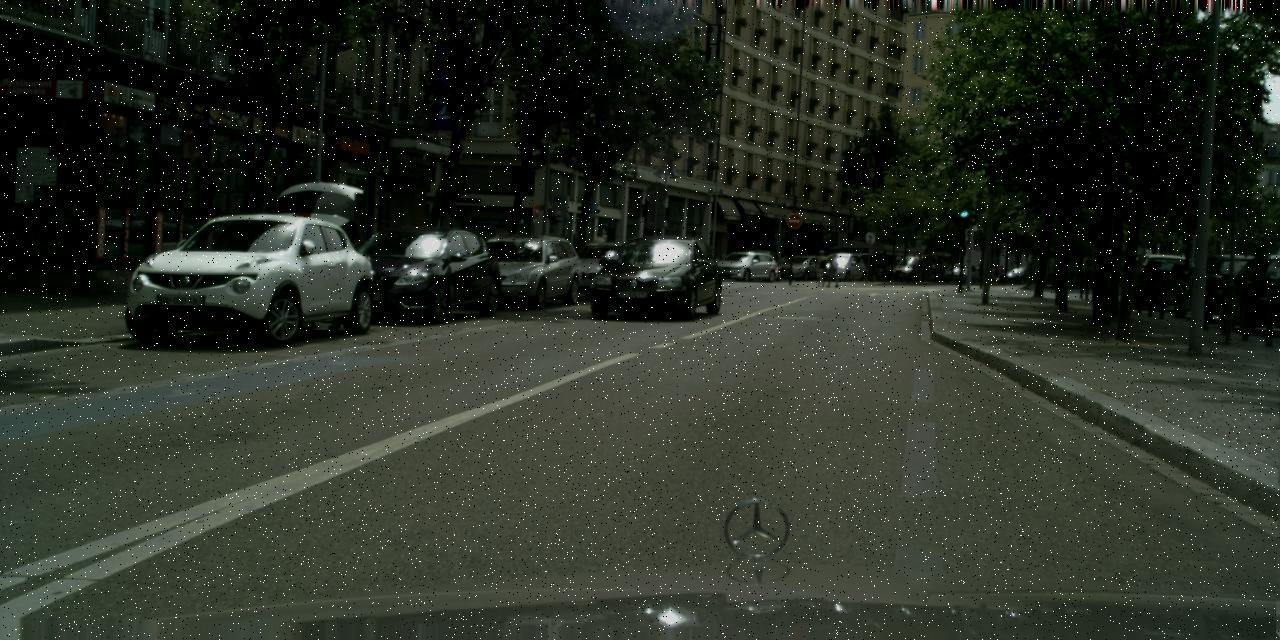ped: (312, 202, 363, 330), (584, 231, 605, 282), (812, 249, 828, 287), (826, 251, 840, 287), (779, 254, 788, 278), (992, 264, 1004, 278), (935, 261, 943, 281), (975, 264, 983, 282)
